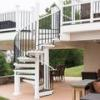stairs: (9, 48, 57, 97), (32, 26, 60, 50)
